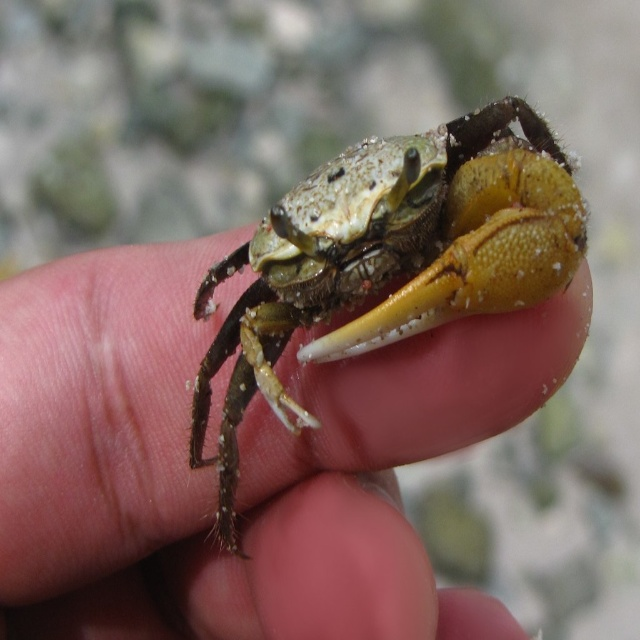Crab: (186, 96, 594, 564)
